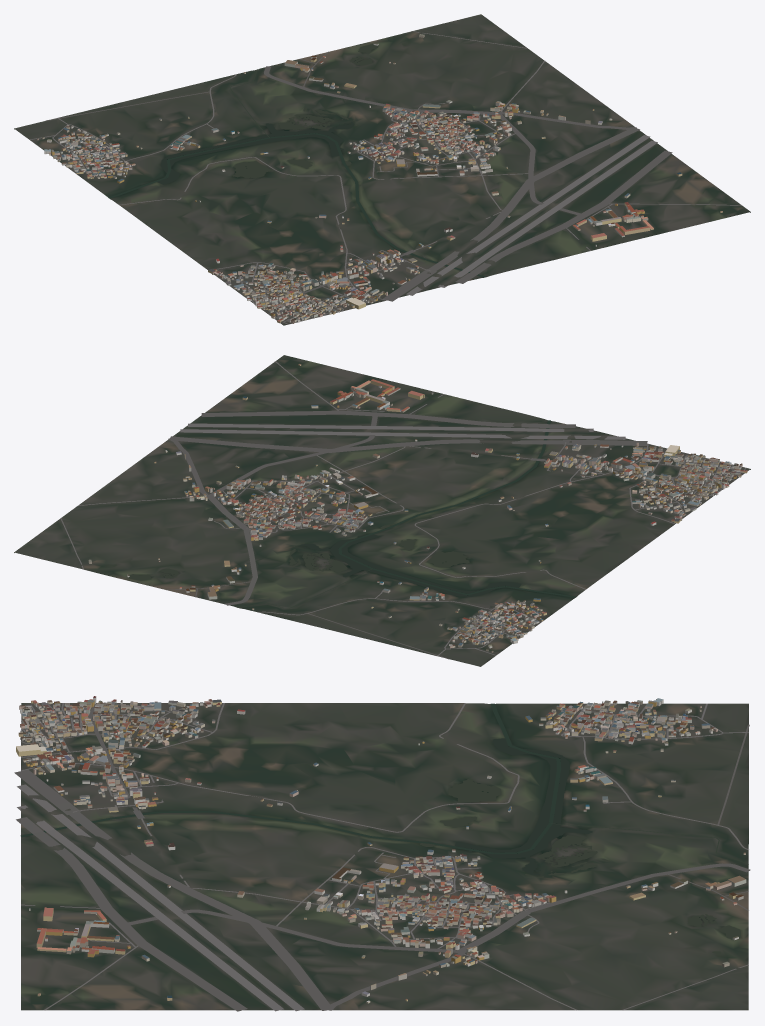
3 views of the same model, one above another, from view 1: azimuth 30°, elevation 25°; view 2: azimuth 150°, elevation 25°; view 3: azimuth 270°, elevation 25° (orthographic). The views are drawn at different scales.
Visible parts, largest first — view 1: ground, buildings, roads, water; view 2: ground, buildings, roads, water; view 3: ground, buildings, roads, water.
Boxes of the visible parts, bbox=[...] form: ground: bbox=[14, 14, 750, 325]; buildings: bbox=[37, 34, 722, 323]; roads: bbox=[29, 31, 742, 324]; water: bbox=[108, 43, 485, 277]; ground: bbox=[14, 355, 750, 666]; buildings: bbox=[88, 364, 747, 652]; roads: bbox=[60, 361, 746, 659]; water: bbox=[110, 420, 575, 608]; ground: bbox=[21, 703, 748, 1010]; buildings: bbox=[16, 696, 746, 1003]; roads: bbox=[14, 702, 750, 1011]; water: bbox=[20, 703, 748, 954].
Bounding box in the file's own units: 1416 × 19.14 × 1420.
